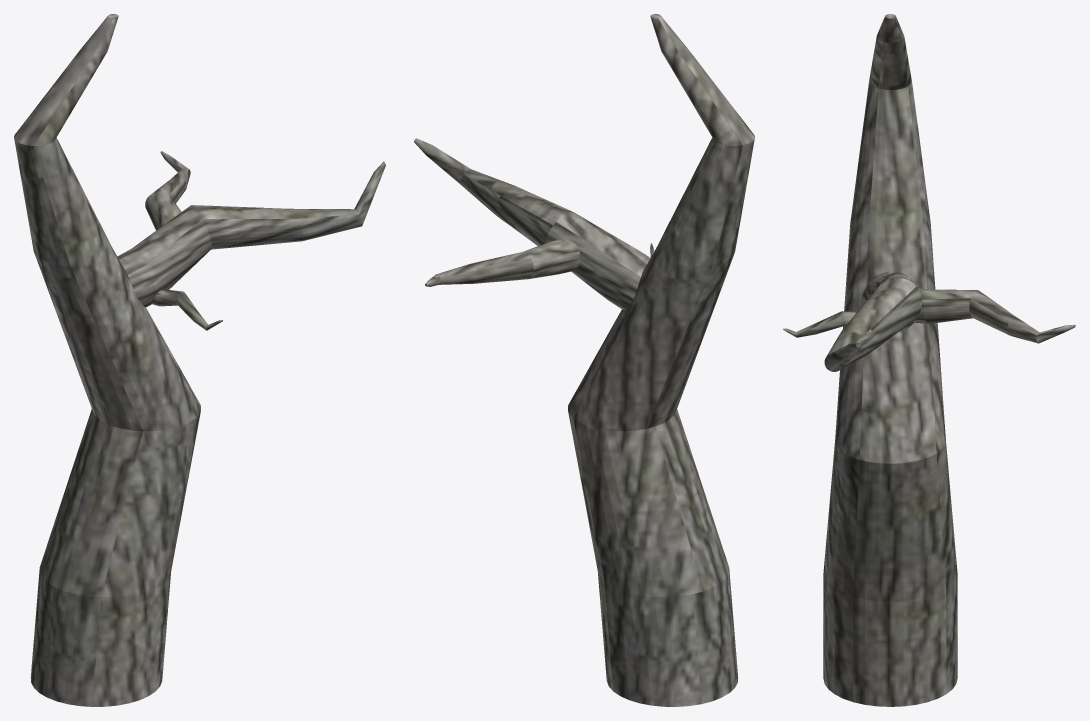
The model's file is bark.fbx.
The picture shows the model from 3 angles, left to right: view 1: azimuth 30°, elevation 25°; view 2: azimuth 150°, elevation 25°; view 3: azimuth 270°, elevation 25°; orthographic projection.
Parts seen in each view (by area): view 1: Cylinder; view 2: Cylinder; view 3: Cylinder.
Boxes of the visible parts, left/top/right/bottom form: Cylinder: left=14, top=14, right=385, bottom=706; Cylinder: left=414, top=14, right=754, bottom=706; Cylinder: left=783, top=14, right=1075, bottom=706.
Size of the model in its own units: 619 by 1103 by 436.
